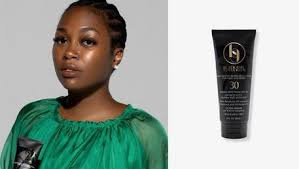person: (50, 2, 127, 94)
